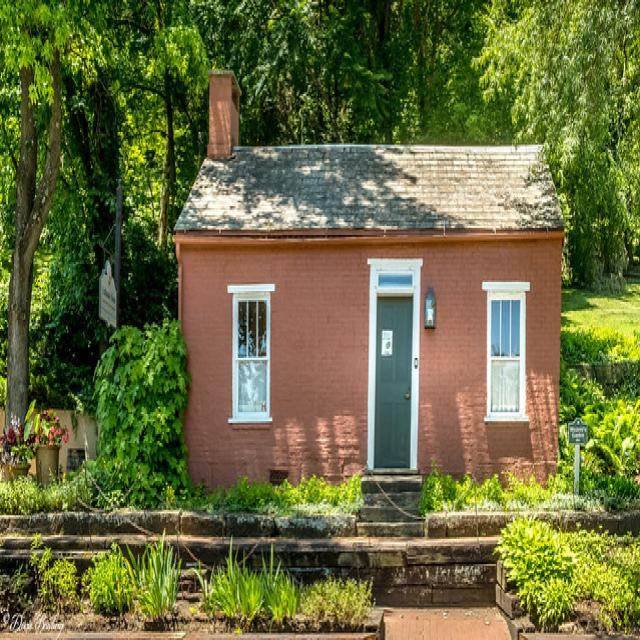Normal_building: (173, 64, 567, 504)
